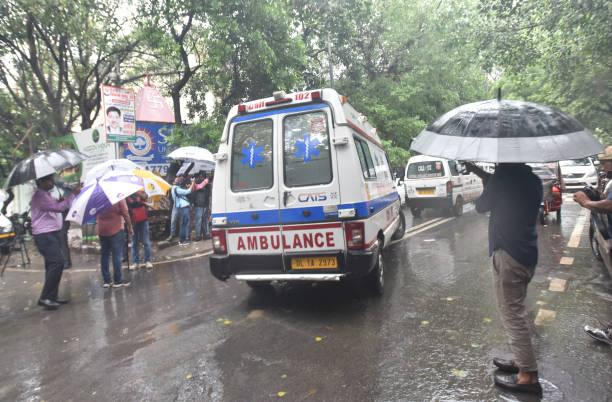AMBULANCE: (224, 79, 326, 213), (220, 223, 338, 270)
